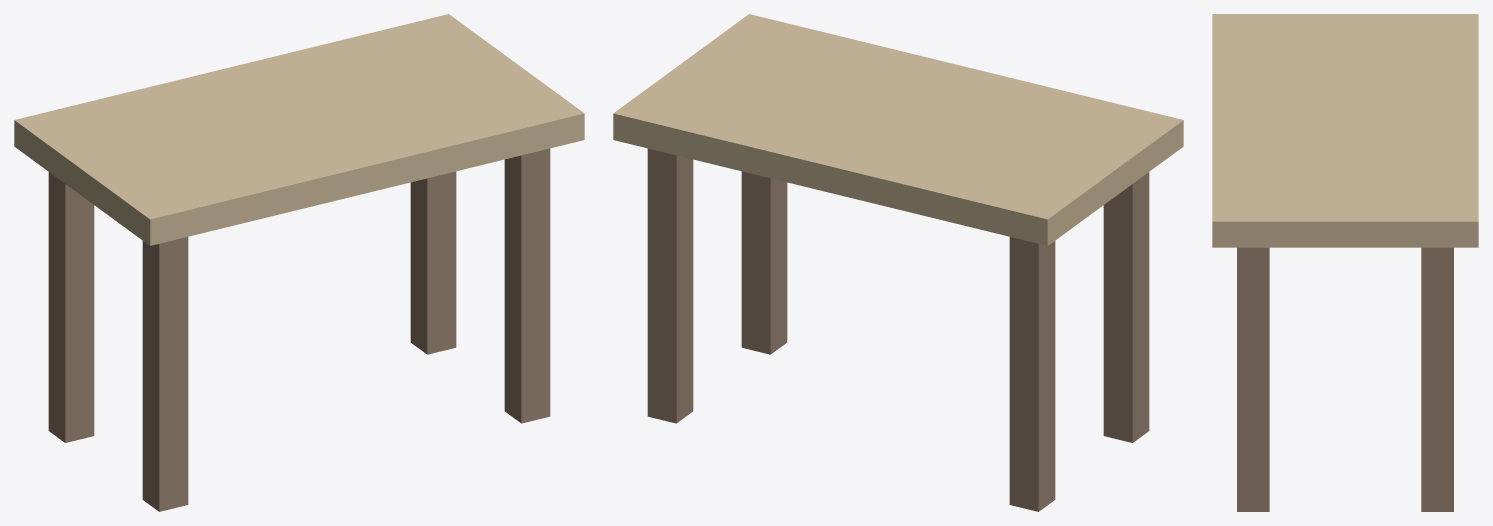
The model's file is writing-desk.gltf.
3 renders of one model, left to right at view 1: azimuth 30°, elevation 25°; view 2: azimuth 150°, elevation 25°; view 3: azimuth 270°, elevation 25°, orthographic. The views are drawn at different scales.
Visible parts, largest first — view 1: Top, LegC, LegD, LegA, LegB; view 2: Top, LegA, LegB, LegC, LegD; view 3: Top, LegB, LegD.
Boxes of the visible parts, x1,y1,x2,y2 form: Top: (14, 14, 584, 245); LegC: (142, 237, 188, 511); LegD: (504, 148, 550, 423); LegA: (48, 172, 94, 442); LegB: (410, 171, 456, 354); Top: (613, 14, 1183, 245); LegA: (1009, 237, 1055, 511); LegB: (647, 148, 693, 423); LegC: (1103, 172, 1149, 442); LegD: (741, 171, 787, 354); Top: (1212, 14, 1478, 247); LegB: (1421, 247, 1453, 511); LegD: (1237, 247, 1269, 511).
Size of the model in its own units: 1.2 by 0.81 by 0.65.
